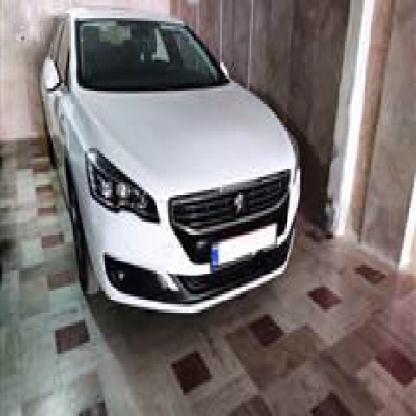car: (19, 0, 305, 325)
